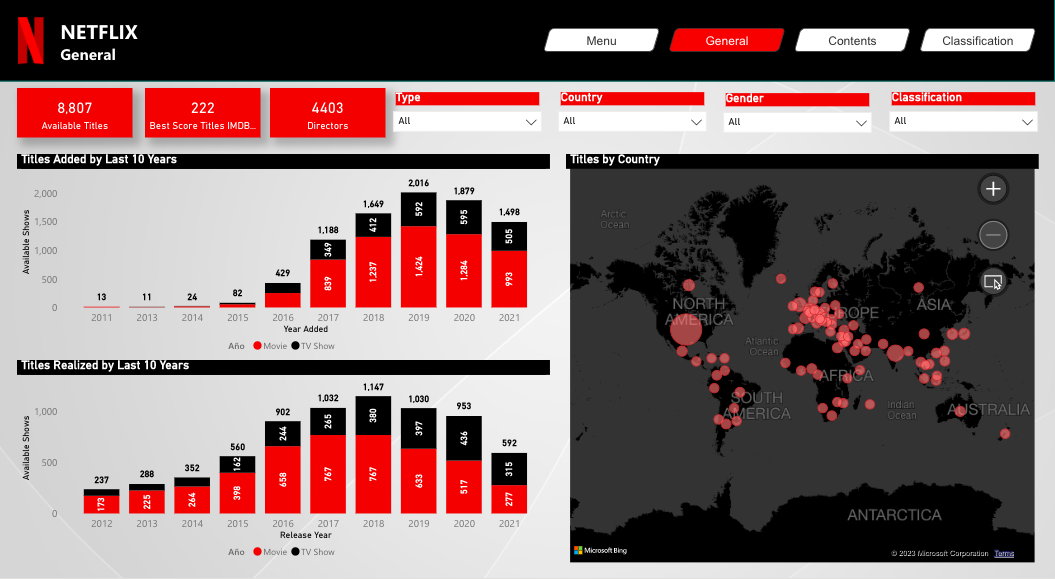

This screenshot's page, from the dashboard's own definition file:
{"tool":"powerbi","page":{"name":"General","canvas":[1280,720],"ordinal":1},"visuals":[{"type":"shape","box":[0,18.3,1280,100],"z":0},{"type":"columnChart","title":"Titles Realized by Last 10 Years","fields":{"Category":["Show1.release_year"],"Y":["Show1.Available Shows"],"Series":["Type2.type"]},"box":[22.4,456.2,645.8,250],"z":1000},{"type":"map","title":"Titles by Country","fields":{"Category":["Country3.Country"],"Size":["Show1.Available Shows"]},"box":[686.7,206.2,572.9,499.9],"z":2000},{"type":"card","fields":{"Values":["Show1.Rating 100%"]},"box":[177.1,126.3,139.8,59.8],"z":3000},{"type":"card","fields":{"Values":["Show1.Títulos añadidos 2021"]},"box":[22.4,126.4,140,60.3],"z":4000},{"type":"card","fields":{"Values":["Count(Director_and_Actor.1st_Director)"]},"box":[328.2,126.3,139.8,59.8],"z":5000},{"type":"image","box":[0,34.7,76.1,67.2],"z":6000},{"type":"pageNavigator","box":[659.1,53.5,600,29.6],"z":7000},{"type":"textbox","box":[69.1,34.6,263.9,67.4],"z":8000},{"type":"columnChart","title":"Titles Added by Last 10 Years","fields":{"Category":["Show1.year_added"],"Y":["Show1.Available Shows"],"Series":["Type2.type"]},"box":[22.4,206.2,645.8,250],"z":9000},{"type":"slicer","fields":{"Values":["Type2.type"]},"box":[467.8,126.3,200,60.3],"z":10000},{"type":"slicer","fields":{"Values":["Country3.Country"]},"box":[668.2,126.3,200.4,60.3],"z":11000},{"type":"slicer","fields":{"Values":["Rate4.ID_Rate"]},"box":[1068.8,126.5,200.4,59.9],"z":12000},{"type":"slicer","fields":{"Values":["Listed_in5.1stlisted_in"]},"box":[868.5,126.8,200.4,59.3],"z":13000}]}

Visuals, with their boxes in screenshot pixels (x1, y1, x2, y2), scaled from the page's 1280x720 canvas onto the 1055x579 screenshot:
shape: x1=0, y1=15, x2=1054, y2=95
"Titles Realized by Last 10 Years" columnChart: x1=18, y1=367, x2=551, y2=568
"Titles by Country" map: x1=566, y1=166, x2=1038, y2=568
card - Show1.Rating 100%: x1=146, y1=102, x2=261, y2=150
card - Show1.Títulos añadidos 2021: x1=18, y1=102, x2=134, y2=150
card - Count(Director_and_Actor.1st_Director): x1=271, y1=102, x2=386, y2=150
image: x1=0, y1=28, x2=63, y2=82
pageNavigator: x1=543, y1=43, x2=1038, y2=67
textbox: x1=57, y1=28, x2=274, y2=82
"Titles Added by Last 10 Years" columnChart: x1=18, y1=166, x2=551, y2=367
slicer - Type2.type: x1=386, y1=102, x2=550, y2=150
slicer - Country3.Country: x1=551, y1=102, x2=716, y2=150
slicer - Rate4.ID_Rate: x1=881, y1=102, x2=1046, y2=150
slicer - Listed_in5.1stlisted_in: x1=716, y1=102, x2=881, y2=150
